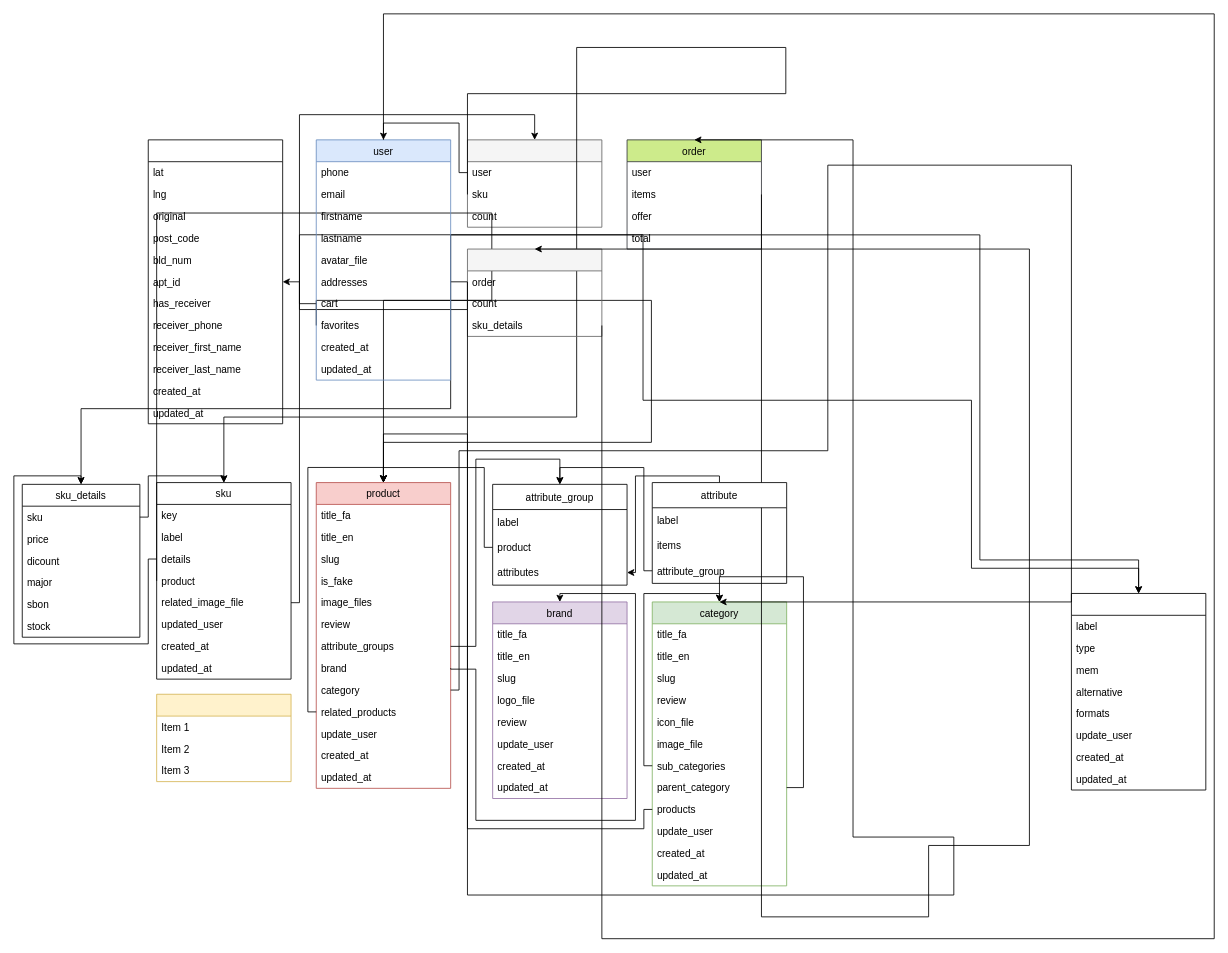
This 1228x953 diagram has some shape labels left out. The box of each missing label's shape, as (x1, y1, x2, y2) in pixels:
address: (147, 139, 283, 424)
cart_item: (467, 139, 602, 227)
comment: (156, 693, 291, 782)
file: (1071, 593, 1206, 790)
order_item: (467, 248, 602, 336)
